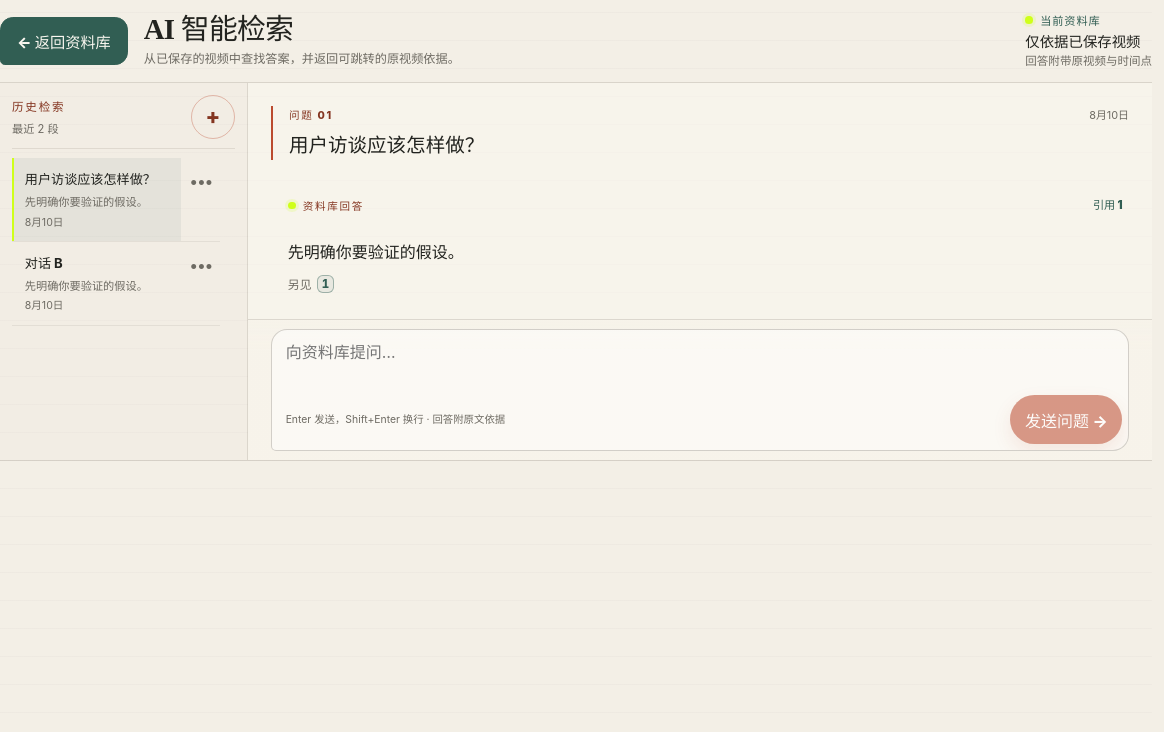
Test: AI search chat page › preserves selected B when pending send A ends in success
Type "A 的新问题" into the text box labelled "向资料库提问" at coordinates (700, 359), box [272,330,1128,388]
Then press Enter
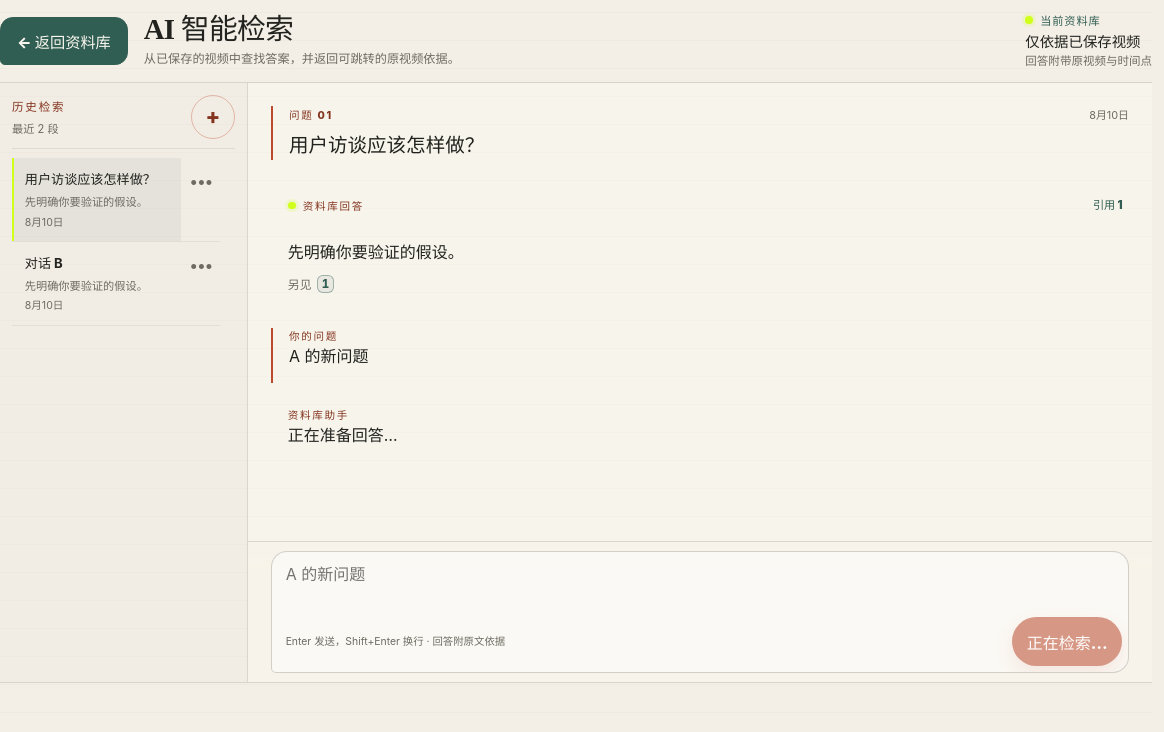
Click the button "对话 B 先明确你要验证的假设。 8月10日" at coordinates (97, 283), box [12,242,181,325]
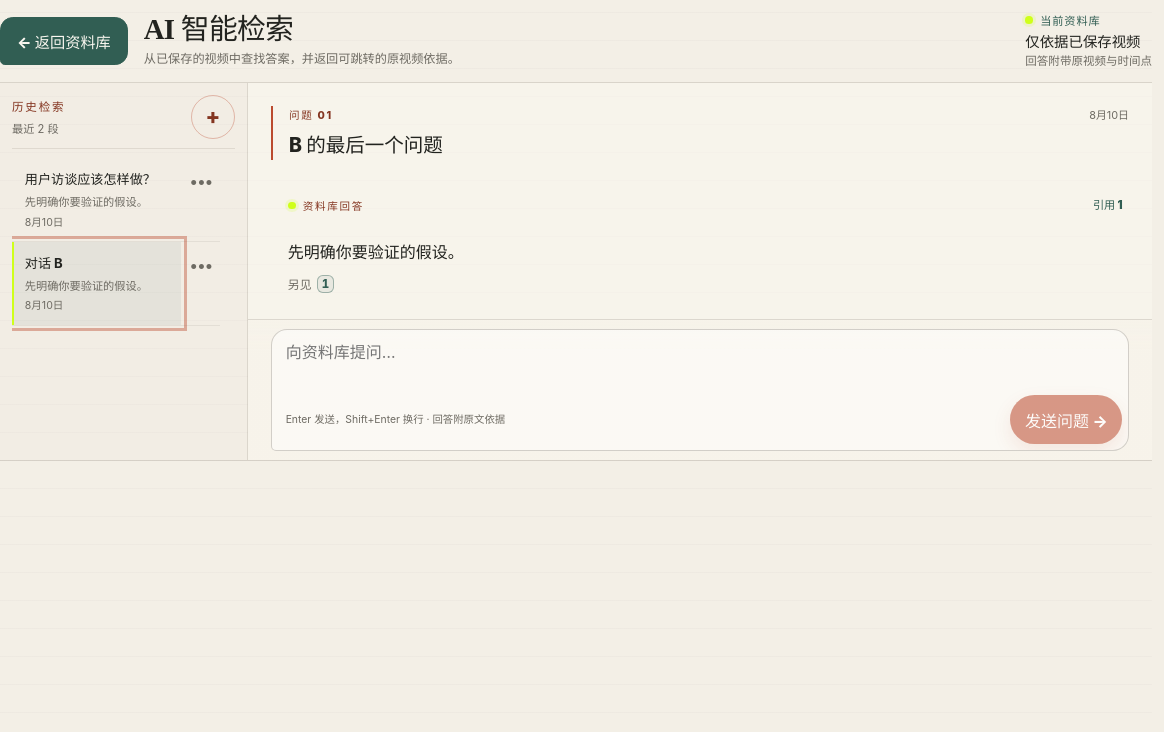
Now the text "B 的最后一个问题" is shown, box [289,133,443,157]
Now the text "A 的新问题" is gone
Now the text box labelled "向资料库提问" is enabled, box [272,330,1128,388]
